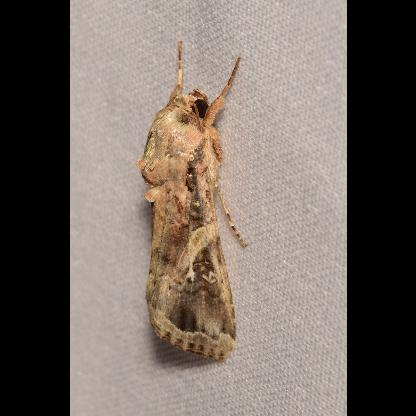Fall Armyworm Moth: (130, 38, 252, 364)
